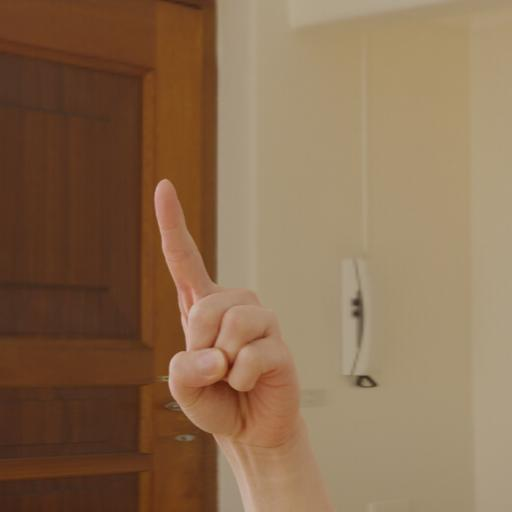Z: (141, 170, 322, 512)
